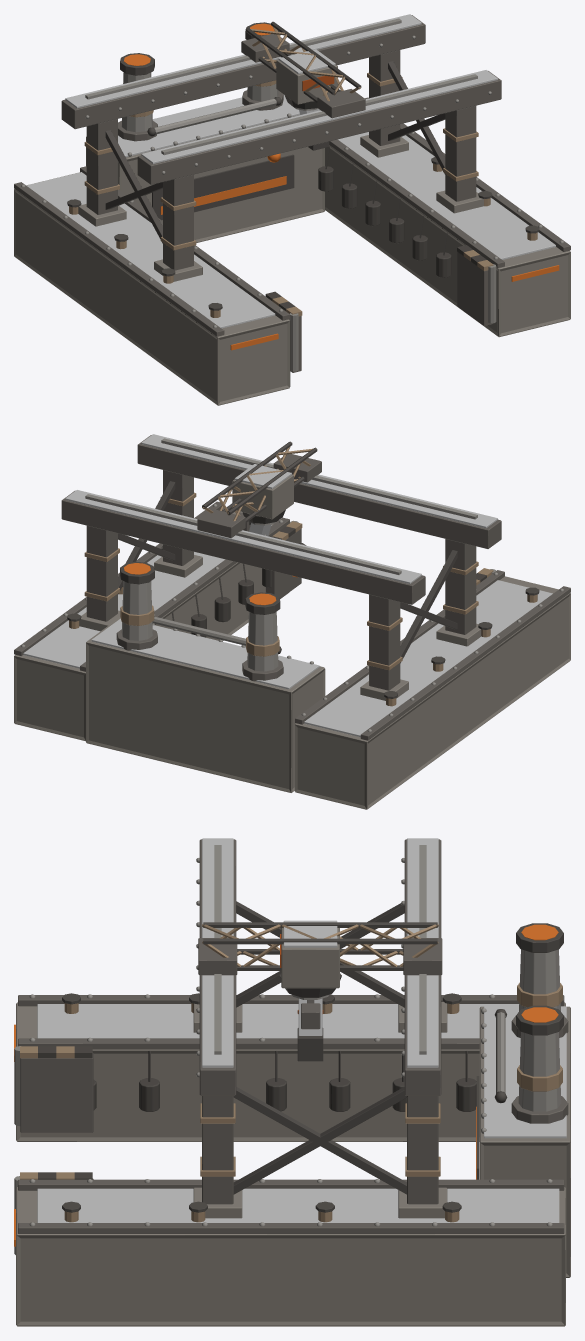
Rendered from crucible_shipyard.glb.
3 views of the same model, one above another, from view 1: azimuth 30°, elevation 25°; view 2: azimuth 150°, elevation 25°; view 3: azimuth 270°, elevation 25° (orthographic). The views are drawn at different scales.
Visible parts, largest first — view 1: Body; view 2: Body; view 3: Body.
Boxes of the visible parts, left/top/right/bottom form: Body: left=14, top=14, right=570, bottom=405; Body: left=14, top=434, right=570, bottom=809; Body: left=14, top=838, right=570, bottom=1326.
Size of the model in its own units: 22.6 by 13.33 by 22.83.
